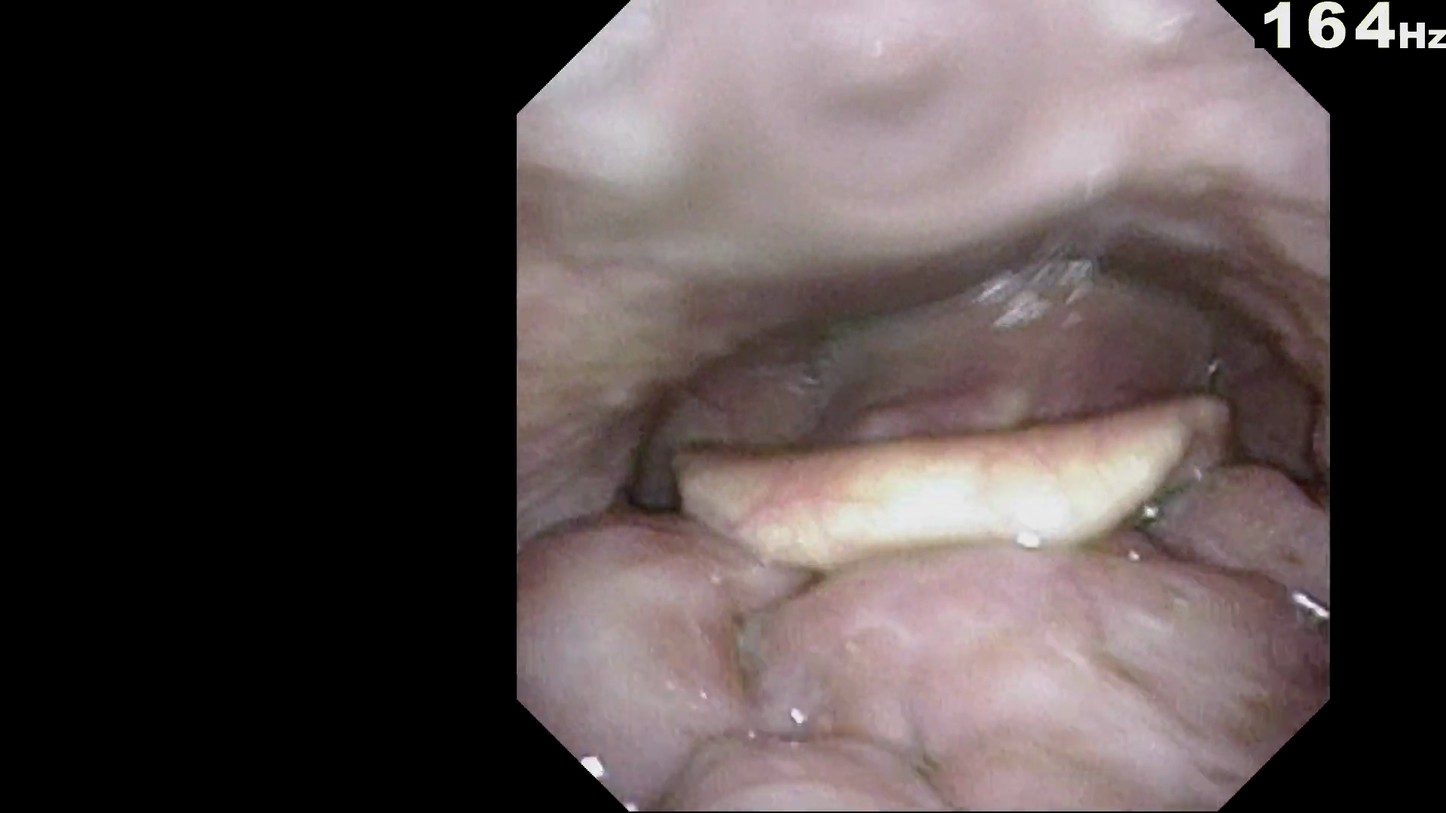epiglottis: (687, 425, 1188, 568)
